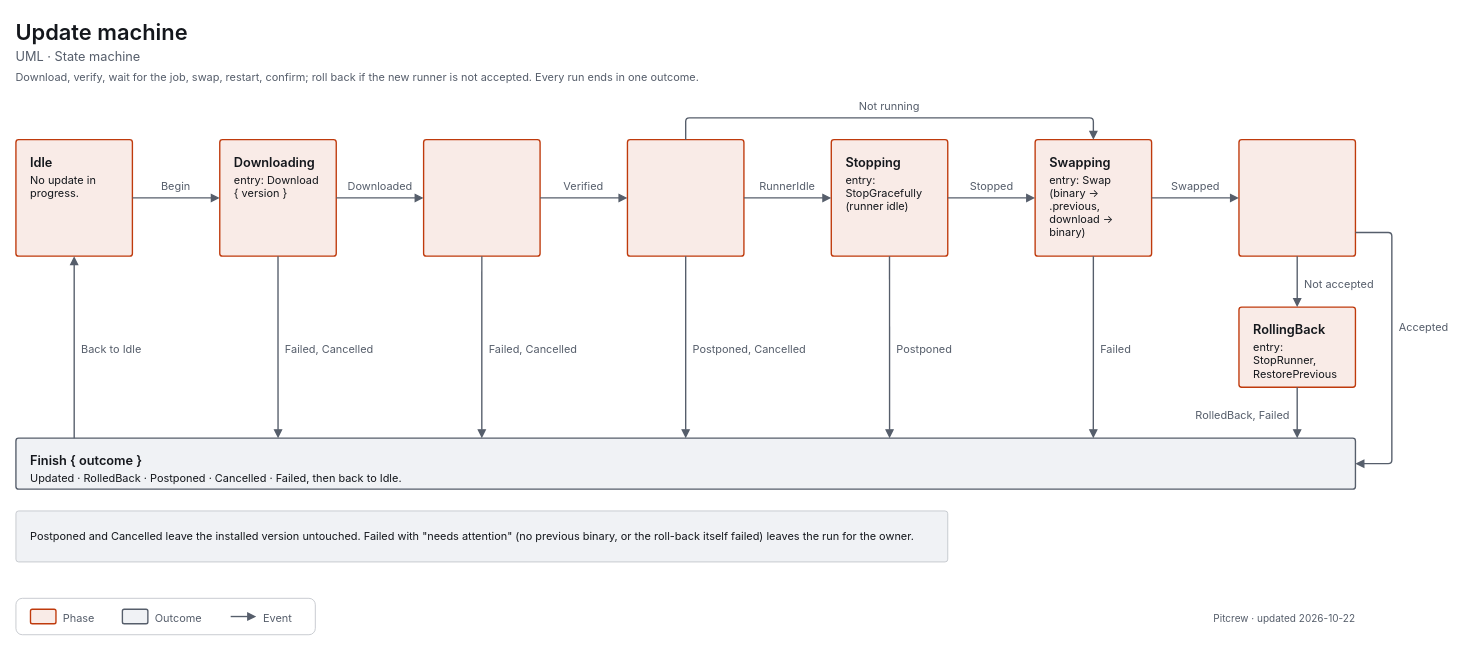
Image size: 1475x651. Some labels were removed from this diagram. The shapes that lost their labels are listed below. From the top down, each one's centre as x and y in pixels, then its label:
At (481,197): "Verifying entry: Verify (checksums from two hosts, --version)".
At (685,197): "Draining entry: WatchForIdle; the runner keeps working".
At (1297,197): "Confirming entry: StartRunner; wait for the server".
